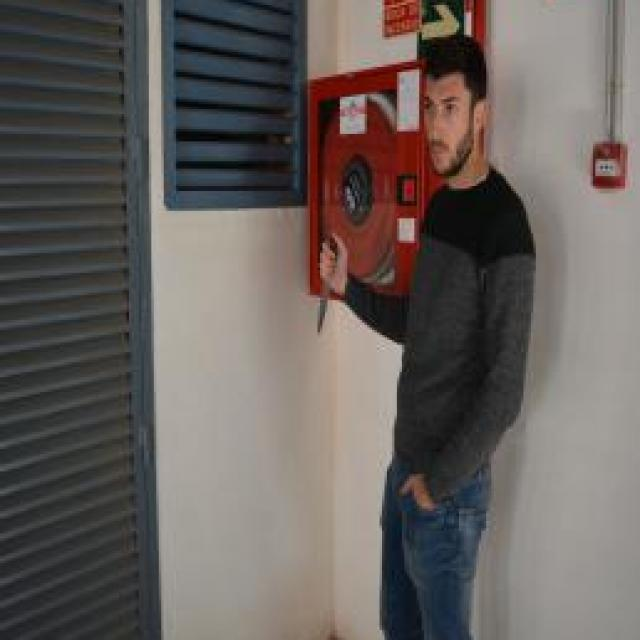knife: (315, 228, 337, 340)
